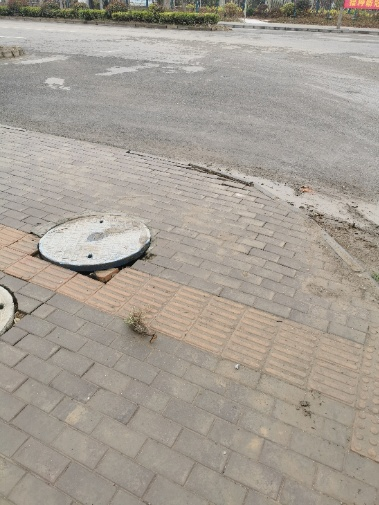uncovered: (37, 215, 149, 269)
